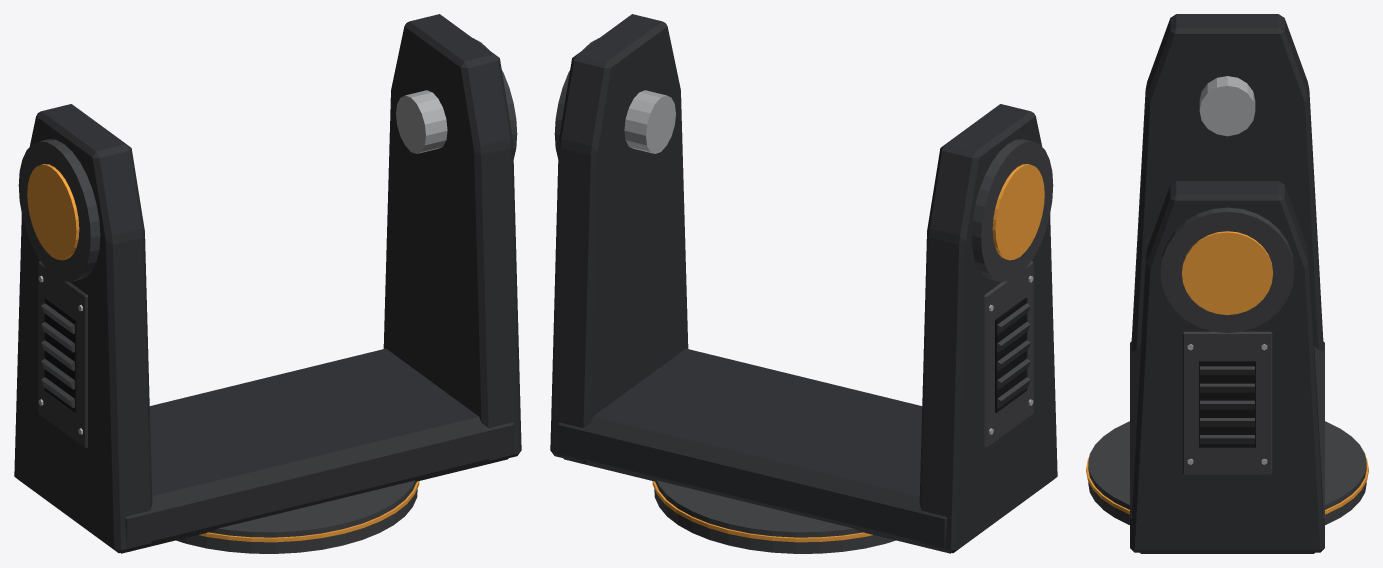
File: csc_phantom_s1_yoke.obj
The picture shows the model from 3 angles, left to right: view 1: azimuth 30°, elevation 25°; view 2: azimuth 150°, elevation 25°; view 3: azimuth 270°, elevation 25°; orthographic projection. The views are drawn at different scales.
Parts seen in each view (by area): view 1: yoke_csc_2f3033, yoke_csc_3f4043, yoke_csc_f9a238, yoke_csc_adafb1, yoke_csc_161618; view 2: yoke_csc_2f3033, yoke_csc_3f4043, yoke_csc_f9a238, yoke_csc_adafb1, yoke_csc_161618; view 3: yoke_csc_2f3033, yoke_csc_3f4043, yoke_csc_f9a238, yoke_csc_adafb1, yoke_csc_161618.
Boxes of the visible parts, x1,y1,x2,y2 form: yoke_csc_2f3033: [14, 14, 521, 553]; yoke_csc_3f4043: [18, 38, 517, 553]; yoke_csc_f9a238: [27, 164, 419, 542]; yoke_csc_adafb1: [38, 90, 447, 434]; yoke_csc_161618: [44, 297, 76, 412]; yoke_csc_2f3033: [550, 14, 1057, 553]; yoke_csc_3f4043: [554, 38, 1053, 553]; yoke_csc_f9a238: [652, 164, 1044, 542]; yoke_csc_adafb1: [624, 90, 1033, 434]; yoke_csc_161618: [995, 297, 1027, 412]; yoke_csc_2f3033: [1130, 14, 1324, 553]; yoke_csc_3f4043: [1088, 207, 1366, 524]; yoke_csc_f9a238: [1086, 231, 1368, 514]; yoke_csc_adafb1: [1187, 76, 1267, 464]; yoke_csc_161618: [1199, 361, 1255, 447].
Size of the model in its own units: 0.9731 by 0.8774 by 0.5932.
